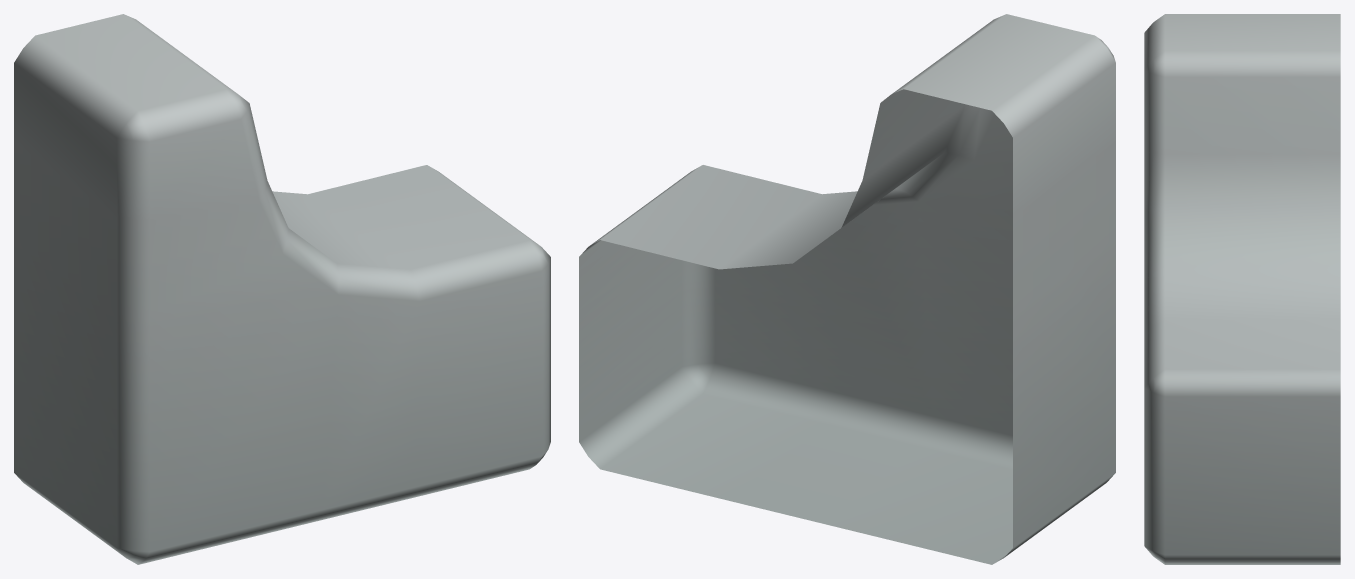
The model's file is tasto_puzzle_allarme_01.fbx.
3 views of the same model, side by side, from view 1: azimuth 30°, elevation 25°; view 2: azimuth 150°, elevation 25°; view 3: azimuth 270°, elevation 25° (orthographic). The views are drawn at different scales.
Parts seen in each view (by area): view 1: tasto_puzzle_allarme_01; view 2: tasto_puzzle_allarme_01; view 3: tasto_puzzle_allarme_01.
Part boxes in pixels (x1,y1,x2,y2): tasto_puzzle_allarme_01: (14, 14, 550, 564); tasto_puzzle_allarme_01: (579, 14, 1115, 564); tasto_puzzle_allarme_01: (1144, 14, 1340, 564).
Bounding box in the file's own units: 2 × 2 × 0.9182.
